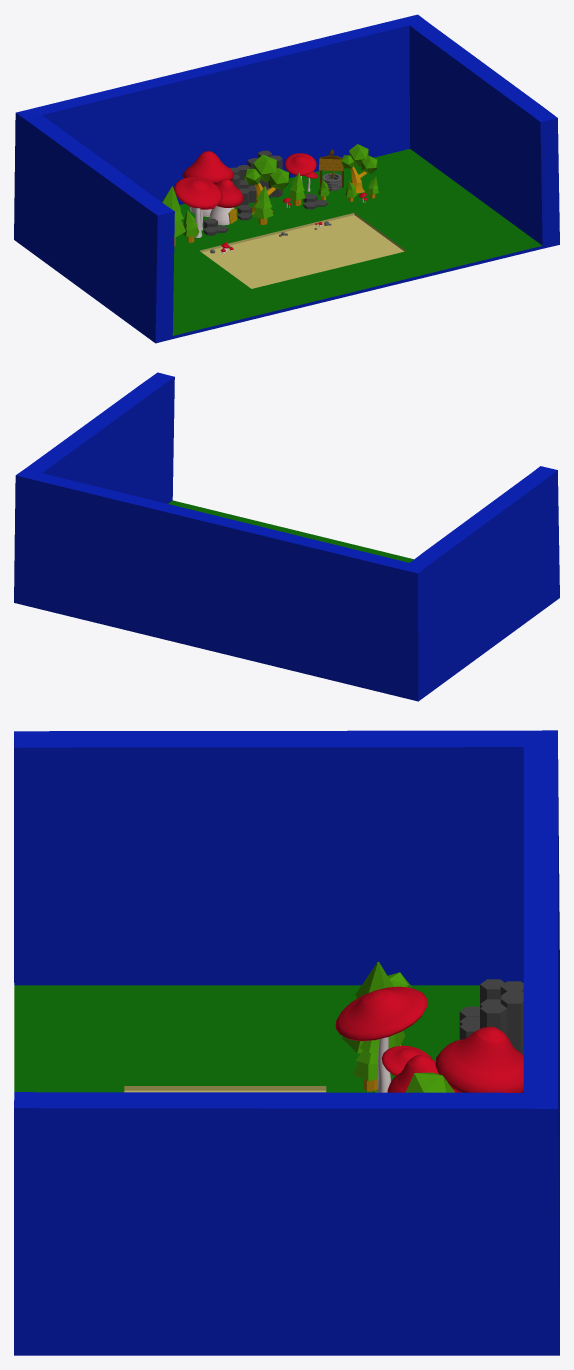
The model's file is Combat_001.fbx.
3 renders of one model, top to bottom at view 1: azimuth 30°, elevation 25°; view 2: azimuth 150°, elevation 25°; view 3: azimuth 270°, elevation 25°, orthographic. The views are drawn at different scales.
Parts seen in each view (by area): view 1: pCube237, pCylinder602, pCylinder598, pCylinder606, pCylinder600, pPlatonic28; view 2: pCube237; view 3: pCube237, pCylinder598, pCylinder602, pCylinder990, pCylinder600, pPlatonic28, pCylinder603.
Part boxes in pixels (x1=…): pCube237: x1=14, y1=14, x2=559, y2=343; pCylinder602: x1=174, y1=177, x2=222, y2=208; pCylinder598: x1=182, y1=151, x2=234, y2=184; pCylinder606: x1=284, y1=153, x2=316, y2=175; pCylinder600: x1=215, y1=179, x2=243, y2=207; pPlatonic28: x1=253, y1=154, x2=276, y2=182; pCube237: x1=14, y1=372, x2=559, y2=701; pCube237: x1=14, y1=730, x2=559, y2=1355; pCylinder598: x1=435, y1=1026, x2=523, y2=1092; pCylinder602: x1=335, y1=986, x2=427, y2=1041; pCylinder990: x1=500, y1=993, x2=523, y2=1055; pCylinder600: x1=387, y1=1055, x2=458, y2=1092; pPlatonic28: x1=405, y1=1072, x2=454, y2=1092; pCylinder603: x1=381, y1=1045, x2=431, y2=1075.
Bounding box in the file's own units: 890 × 270 × 539.
